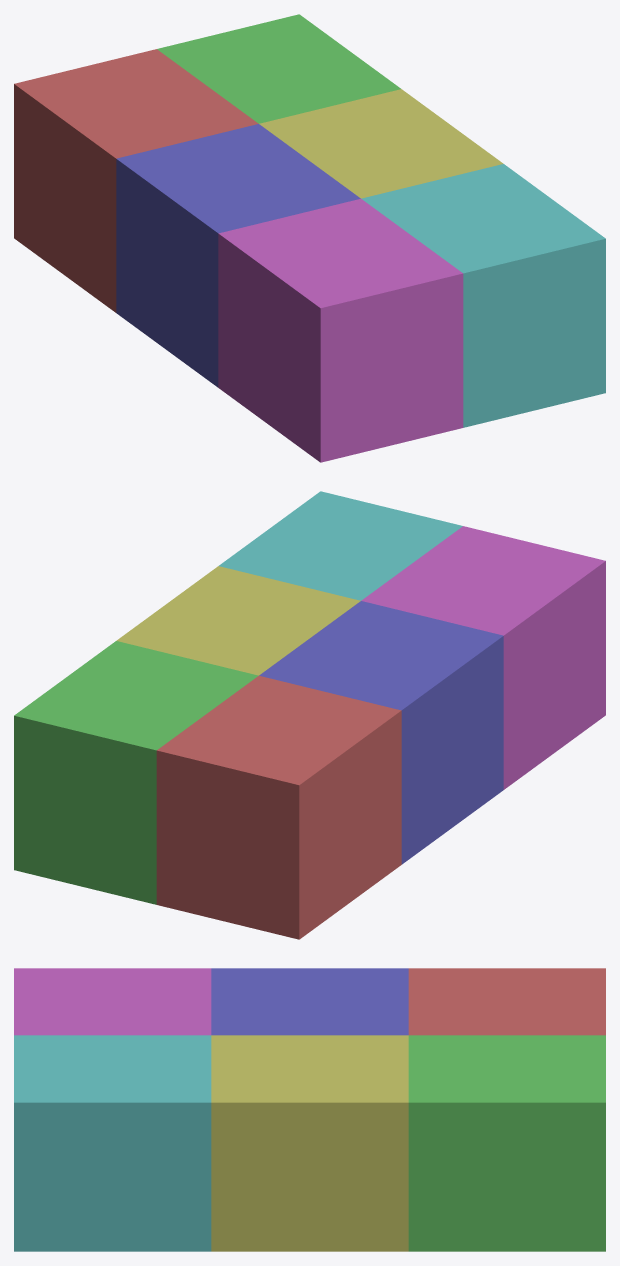
File: order_106647_pall_1.glb
The picture shows the model from 3 angles, top to bottom: view 1: azimuth 30°, elevation 25°; view 2: azimuth 150°, elevation 25°; view 3: azimuth 270°, elevation 25°; orthographic projection. The views are drawn at different scales.
Parts seen in each view (by area): view 1: world; view 2: world; view 3: world.
Boxes of the visible parts, box(x1,y1,x2,y2) form: world: box(14, 14, 605, 462); world: box(14, 491, 605, 939); world: box(14, 968, 605, 1251).
Size of the model in its own units: 1164 by 602 by 2166.
